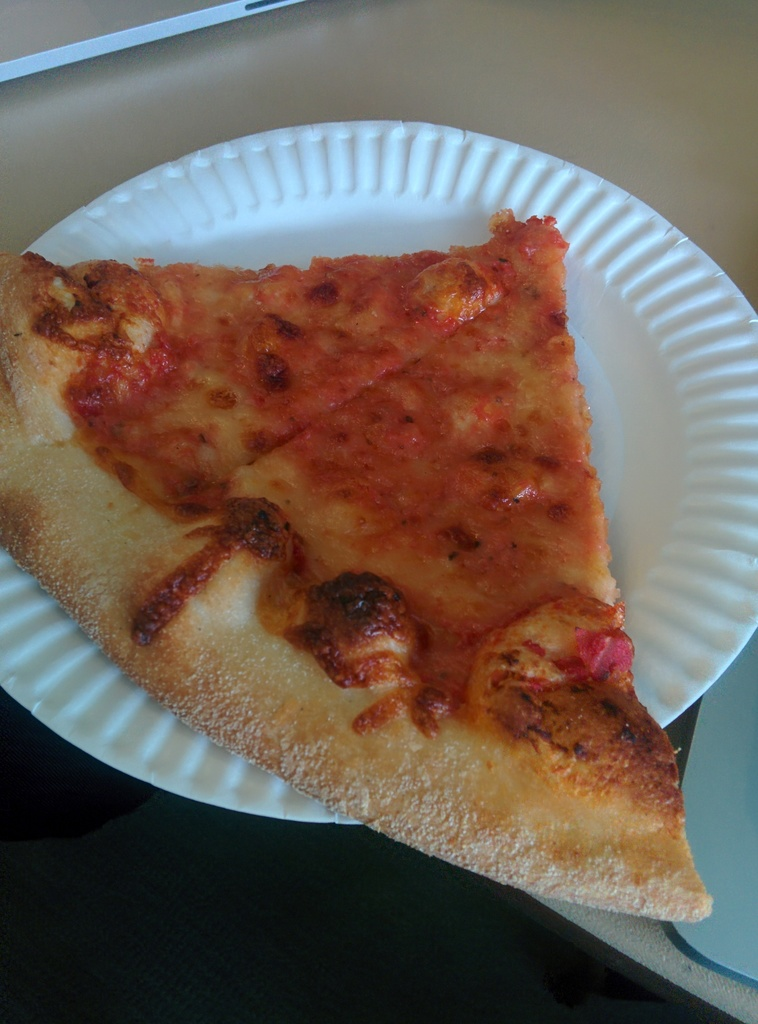Pizza: (0, 239, 718, 918)
